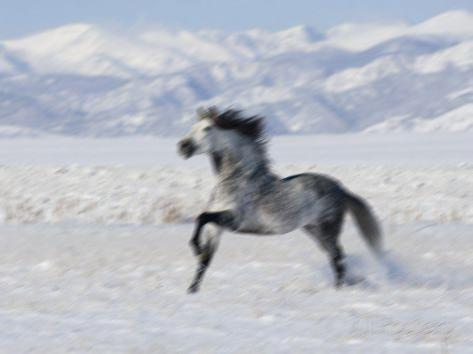horse: (176, 104, 404, 294)
